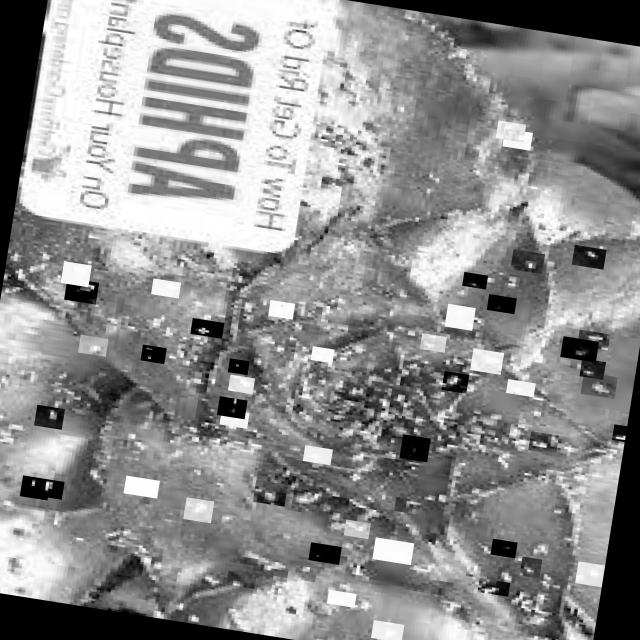aphid: (371, 537, 413, 565), (559, 337, 598, 362), (580, 372, 616, 399), (252, 479, 287, 506), (570, 244, 606, 270), (469, 348, 503, 375), (63, 278, 98, 304), (509, 249, 544, 274), (398, 434, 429, 462), (33, 404, 64, 430), (574, 562, 605, 588), (59, 261, 90, 287), (122, 476, 158, 498), (182, 497, 212, 523), (444, 304, 474, 330), (18, 476, 49, 500), (308, 542, 340, 565), (216, 396, 247, 419), (190, 317, 223, 338), (527, 432, 558, 454), (576, 330, 609, 350), (518, 404, 548, 426), (76, 334, 106, 356), (370, 620, 403, 640), (501, 128, 531, 150), (495, 120, 525, 142), (476, 578, 509, 597), (441, 371, 468, 394), (286, 564, 316, 584), (150, 278, 180, 298), (486, 294, 516, 314), (302, 445, 332, 465), (218, 408, 248, 428), (578, 358, 605, 380), (342, 519, 370, 539), (38, 478, 64, 499), (225, 570, 255, 588), (325, 589, 355, 607), (489, 538, 516, 558), (227, 374, 254, 394), (267, 299, 294, 319), (419, 332, 446, 352), (504, 379, 534, 397), (518, 556, 542, 578), (140, 344, 166, 364), (393, 497, 420, 515), (461, 271, 487, 289), (548, 506, 572, 524), (310, 346, 334, 362), (226, 358, 248, 375), (611, 424, 627, 442)
